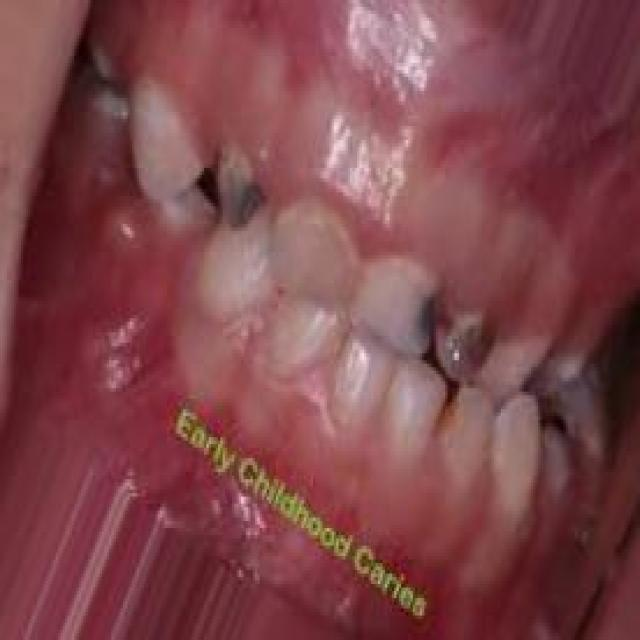caries: (210, 134, 268, 243), (435, 292, 494, 388), (403, 260, 445, 342)
